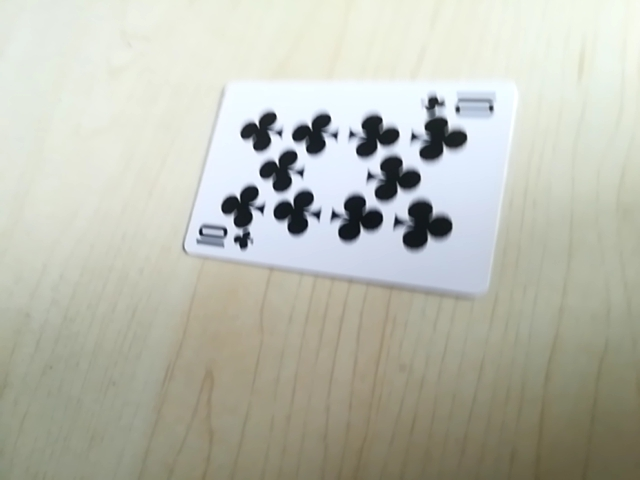mh 10: (426, 87, 503, 120), (194, 221, 255, 257)
